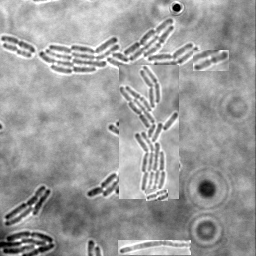Dividing: (118, 240, 191, 255), (193, 50, 229, 71), (1, 34, 37, 52), (3, 41, 33, 57), (146, 189, 168, 201)
Microcolony: (40, 18, 199, 89), (119, 65, 179, 199), (5, 184, 52, 226), (1, 230, 56, 255)
